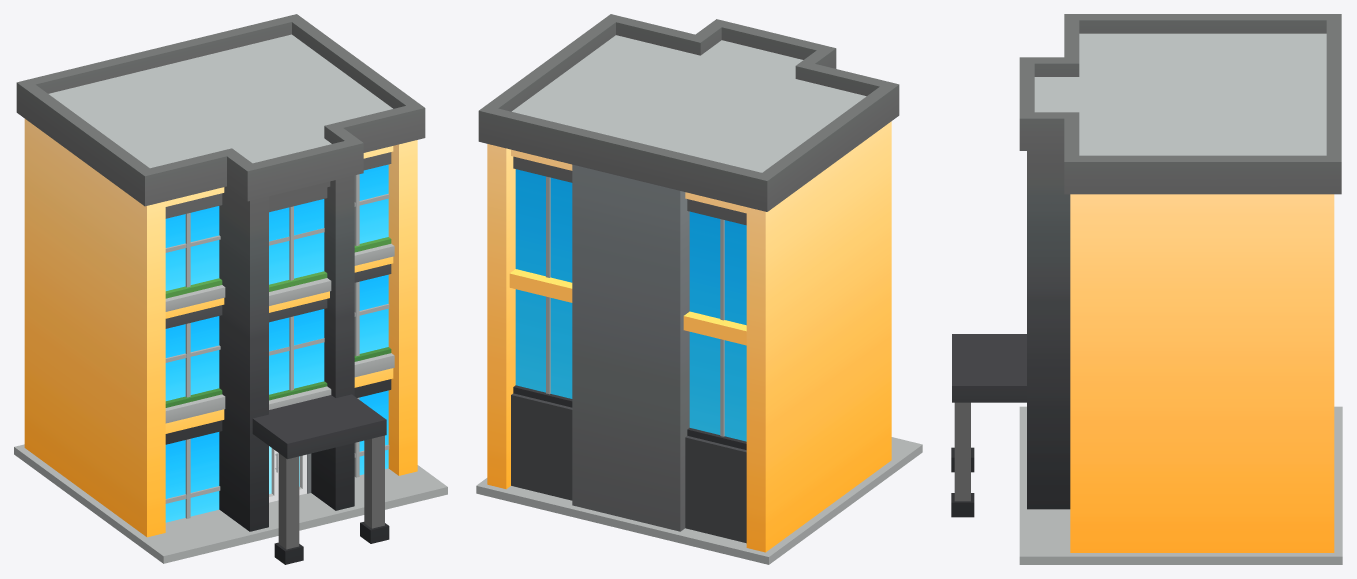
Rendered from city2-building-hotel-08.glb.
3 renders of one model, left to right at view 1: azimuth 30°, elevation 25°; view 2: azimuth 150°, elevation 25°; view 3: azimuth 270°, elevation 25°, orthographic. The views are drawn at different scales.
Parts seen in each view (by area): view 1: Building_Hotel_08; view 2: Building_Hotel_08; view 3: Building_Hotel_08.
Part boxes in pixels (box(x1,y1,x2,y2)): Building_Hotel_08: box(14, 14, 447, 564); Building_Hotel_08: box(476, 14, 922, 564); Building_Hotel_08: box(951, 14, 1342, 564).
Bounding box in the file's own units: 8.22 × 10.27 × 9.06.
1 material, 1 textured.
